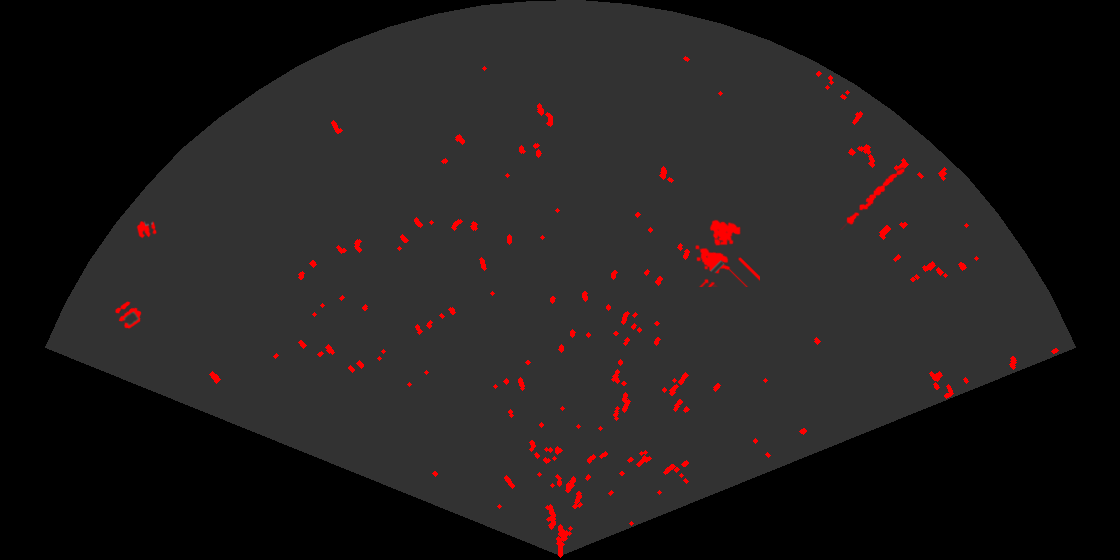ball: (114, 300, 143, 330), (135, 220, 159, 240)
cage: (693, 218, 760, 287)
chain: (839, 167, 906, 230)
